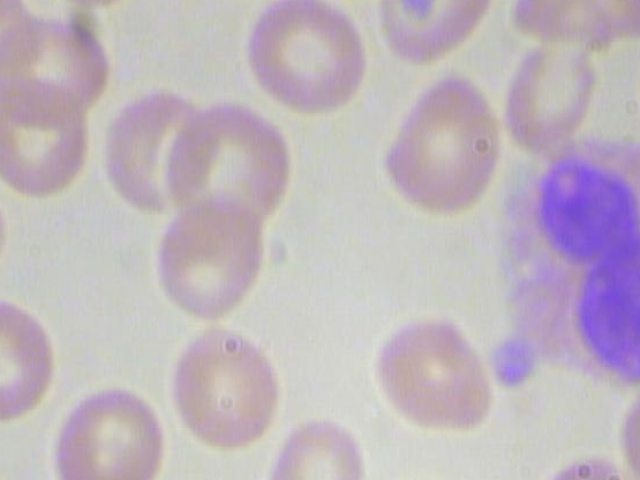Platelets: (484, 335, 537, 393)
RBC: (350, 306, 509, 444), (371, 66, 509, 224), (159, 98, 292, 239), (236, 0, 374, 122), (166, 319, 289, 454), (147, 193, 270, 328), (49, 378, 172, 480), (0, 76, 96, 202), (0, 11, 111, 117), (377, 0, 518, 69), (264, 399, 371, 480), (508, 0, 640, 42), (33, 0, 145, 16), (180, 0, 291, 16)
WBC: (499, 136, 640, 395)
